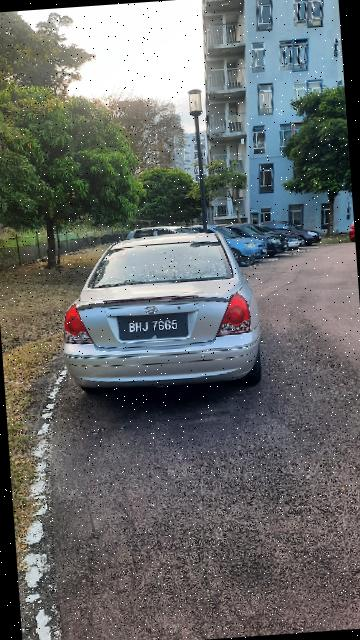License_Plate: (115, 309, 195, 348)
car: (51, 225, 271, 406)
